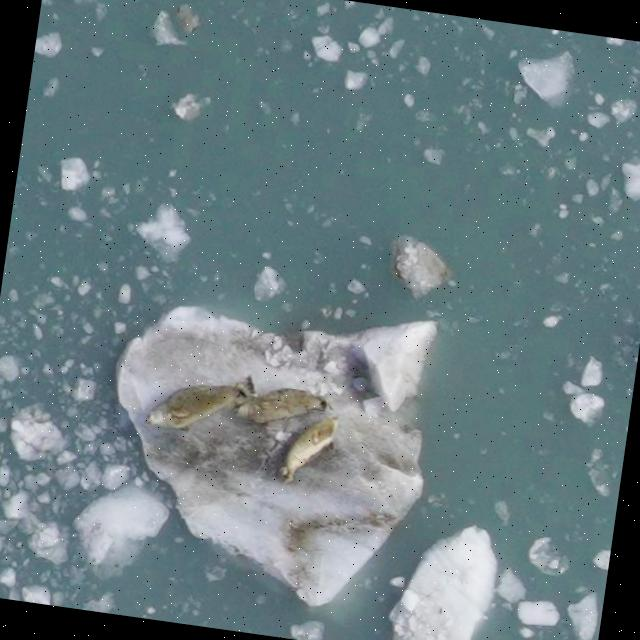seal: (136, 360, 263, 447), (262, 408, 354, 490), (230, 382, 331, 432)
